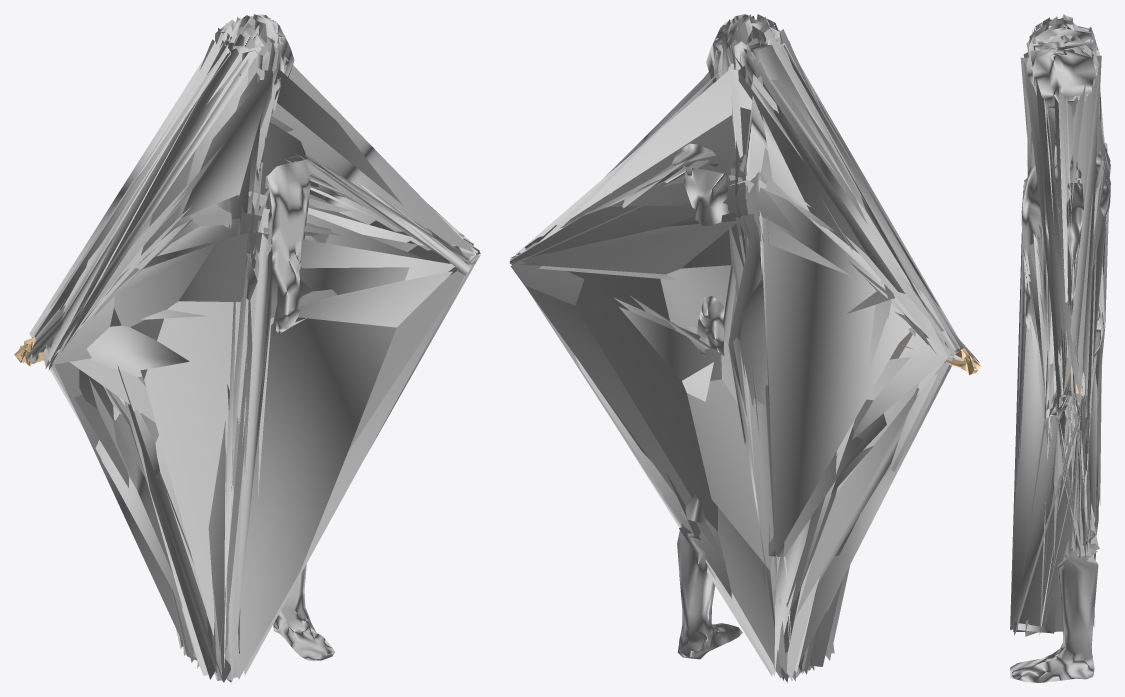
The model's file is player.obj.
3 views of the same model, side by side, from view 1: azimuth 30°, elevation 25°; view 2: azimuth 150°, elevation 25°; view 3: azimuth 270°, elevation 25° (orthographic).
Visible parts, largest first — view 1: Cube_Cube.001; view 2: Cube_Cube.001; view 3: Cube_Cube.001.
Part boxes in pixels (box(x1,y1,x2,y2)): Cube_Cube.001: box(14, 14, 480, 682); Cube_Cube.001: box(509, 14, 981, 682); Cube_Cube.001: box(1010, 14, 1110, 682).
Bounding box in the file's own units: 3.63 × 4.83 × 0.6923.
